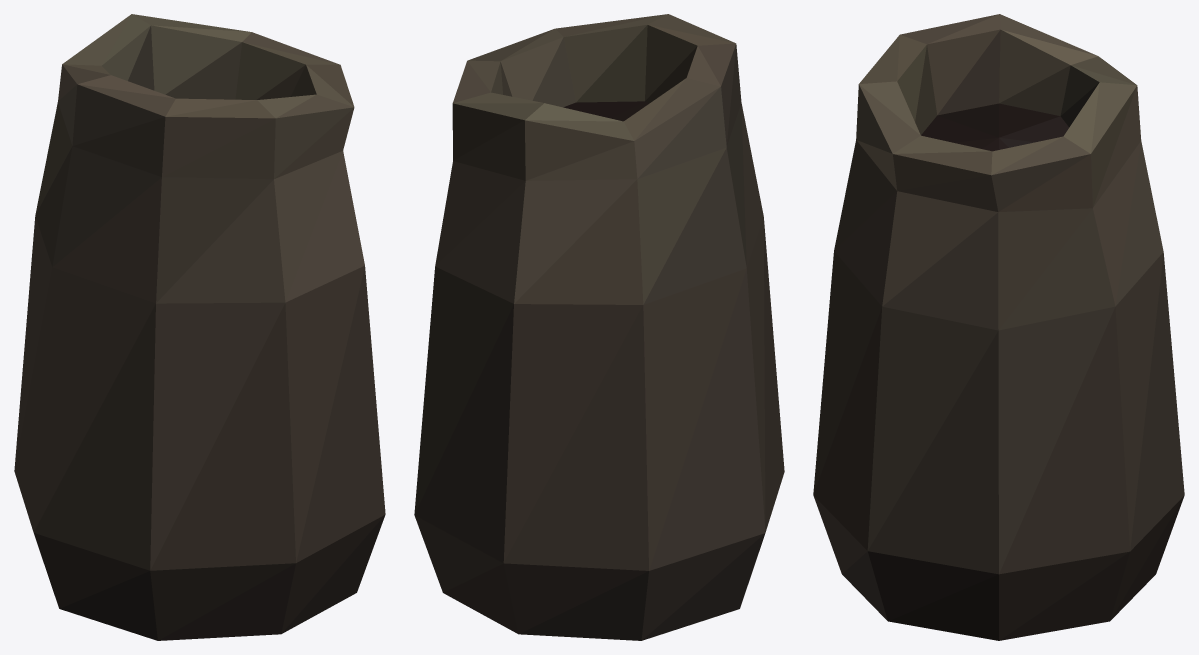
The model's file is prop_container_sack_1.fbx.
3 views of the same model, side by side, from view 1: azimuth 30°, elevation 25°; view 2: azimuth 150°, elevation 25°; view 3: azimuth 270°, elevation 25° (orthographic). The views are drawn at different scales.
Parts seen in each view (by area): view 1: prop_container_sack_1; view 2: prop_container_sack_1; view 3: prop_container_sack_1.
Part boxes in pixels (x1,y1,x2,y2): prop_container_sack_1: [14, 14, 385, 640]; prop_container_sack_1: [414, 14, 784, 640]; prop_container_sack_1: [813, 14, 1184, 640].
Bounding box in the file's own units: 0.7751 × 1.16 × 0.7752.
